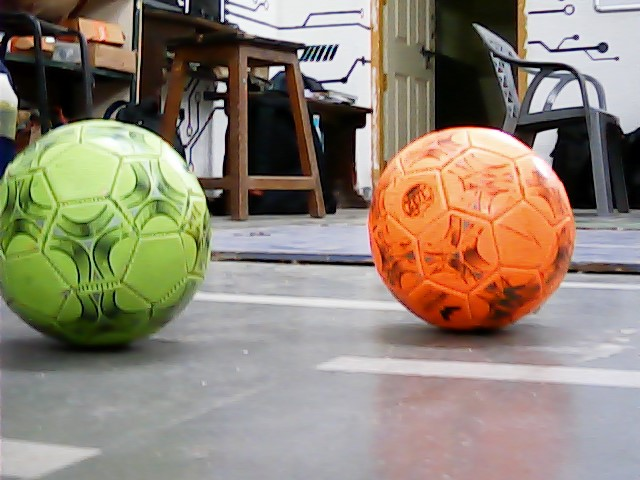Green_ball: (1, 116, 216, 361)
Orange_ball: (368, 123, 581, 341)
